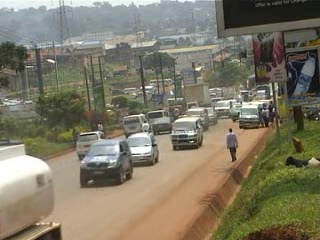Car: (77, 136, 135, 187), (126, 131, 160, 168), (74, 129, 108, 163), (151, 114, 175, 137), (202, 104, 219, 126), (213, 98, 231, 118), (164, 103, 185, 120)
Motorcycle: (140, 118, 152, 139)
